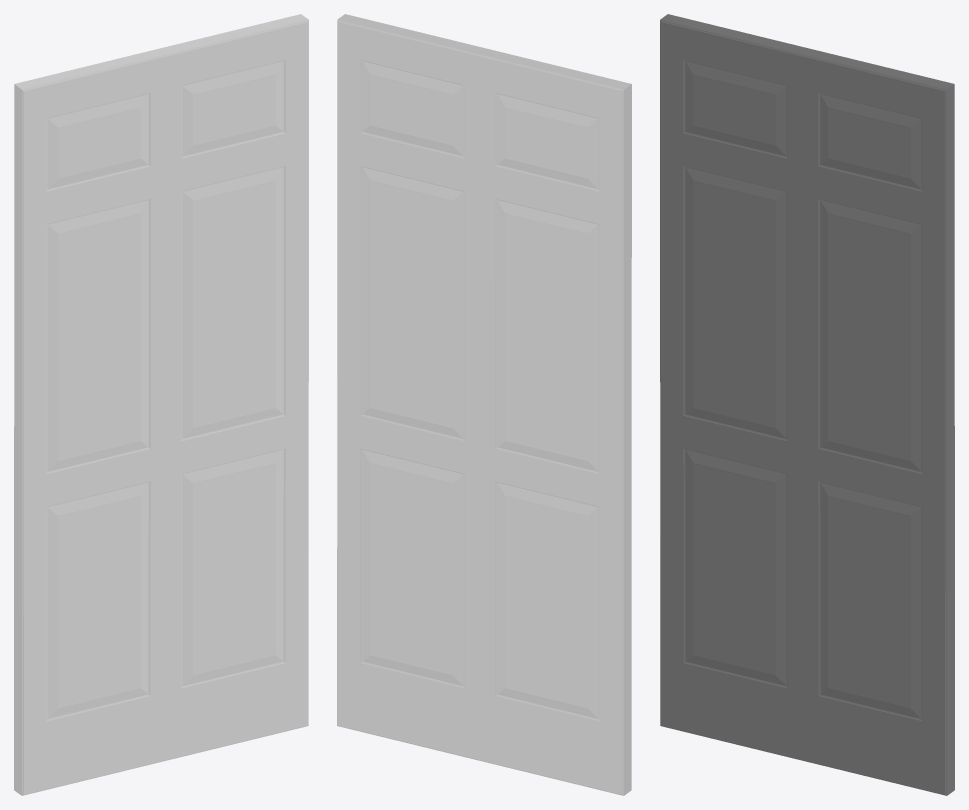
The model's file is FP322:StandardDoor1_016_f76fe3d7.obj.
3 views of the same model, side by side, from view 1: azimuth 30°, elevation 25°; view 2: azimuth 150°, elevation 25°; view 3: azimuth 330°, elevation 25° (orthographic).
Parts seen in each view (by area): view 1: FP322:StandardDoor1.016_f76fe3d7; view 2: FP322:StandardDoor1.016_f76fe3d7; view 3: FP322:StandardDoor1.016_f76fe3d7.
Part boxes in pixels (x1,y1,x2,y2): FP322:StandardDoor1.016_f76fe3d7: [14, 14, 308, 795]; FP322:StandardDoor1.016_f76fe3d7: [337, 14, 631, 795]; FP322:StandardDoor1.016_f76fe3d7: [660, 14, 954, 795].
Bounding box in the file's own units: 0.85 × 2 × 0.0566.
